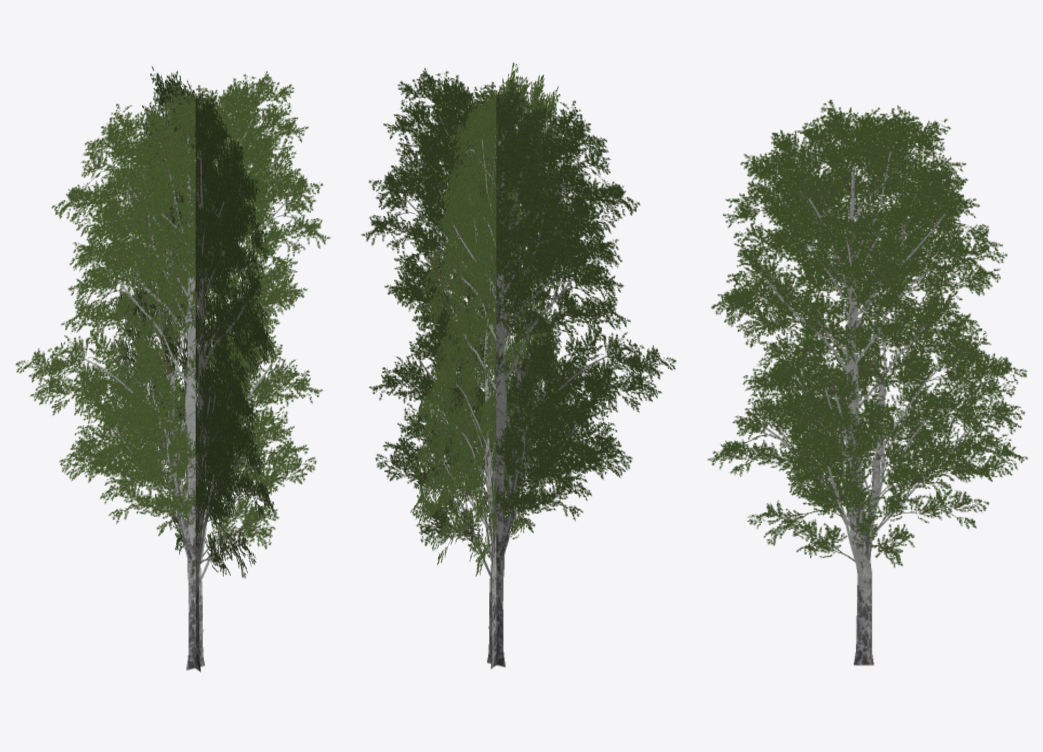
File: BetulaPapyrifera.glb
3 views of the same model, side by side, from view 1: azimuth 30°, elevation 25°; view 2: azimuth 150°, elevation 25°; view 3: azimuth 270°, elevation 25° (orthographic). The views are drawn at different scales.
Parts seen in each view (by area): view 1: mesh__mat_billboard_16; view 2: mesh__mat_billboard_16; view 3: mesh__mat_billboard_16.
Boxes of the visible parts, x1=… form: mesh__mat_billboard_16: x1=15, y1=66, x2=330, y2=672; mesh__mat_billboard_16: x1=361, y1=62, x2=676, y2=669; mesh__mat_billboard_16: x1=707, y1=99, x2=1027, y2=665.
Bounding box in the file's own units: 12.34 × 22.3 × 11.34.
Materials: 1 (1 with a texture image).
